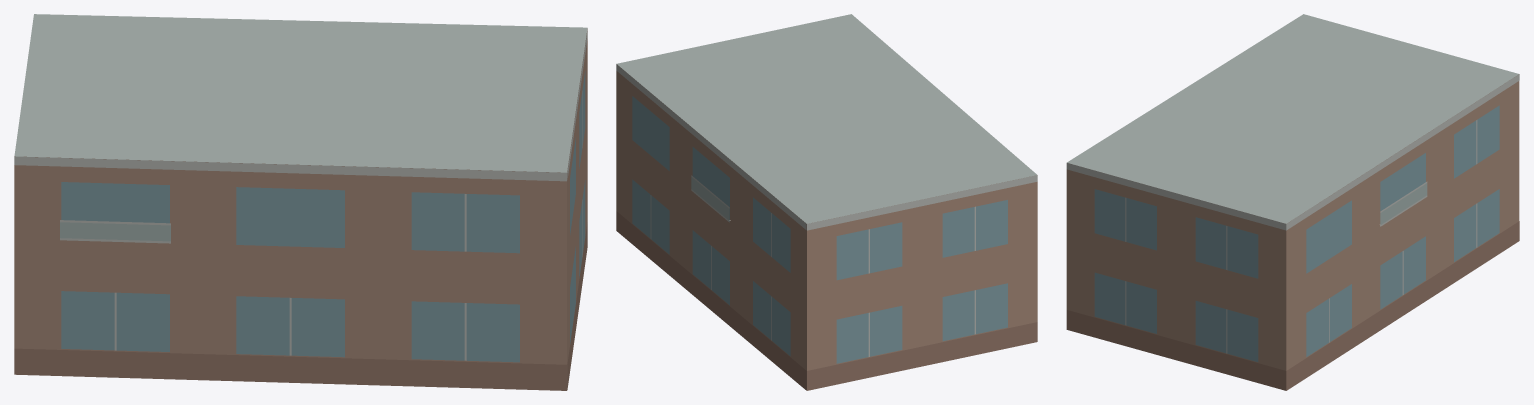
The model's file is survey-upis-32868030.glb.
The picture shows the model from 3 angles, left to right: view 1: azimuth 30°, elevation 25°; view 2: azimuth 150°, elevation 25°; view 3: azimuth 270°, elevation 25°; orthographic projection. The views are drawn at different scales.
Parts seen in each view (by area): view 1: survey-upis-32868030.tmp; view 2: survey-upis-32868030.tmp; view 3: survey-upis-32868030.tmp.
Boxes of the visible parts, bbox=[...] form: survey-upis-32868030.tmp: bbox=[14, 14, 587, 390]; survey-upis-32868030.tmp: bbox=[616, 14, 1037, 390]; survey-upis-32868030.tmp: bbox=[1066, 14, 1519, 390].
Bounding box in the file's own units: 16.45 × 6.1 × 15.
